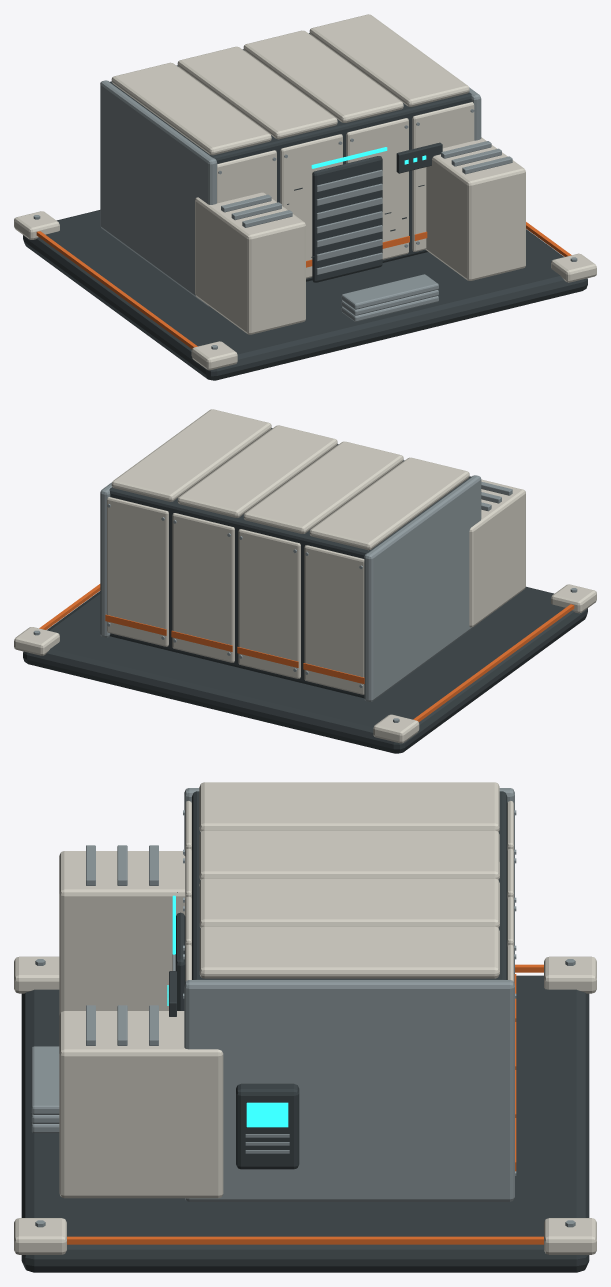
Rendered from SM_ToolFactory_Body.fbx.
3 views of the same model, one above another, from view 1: azimuth 30°, elevation 25°; view 2: azimuth 150°, elevation 25°; view 3: azimuth 270°, elevation 25° (orthographic). The views are drawn at different scales.
Parts seen in each view (by area): view 1: SM_ToolFactory_Body; view 2: SM_ToolFactory_Body; view 3: SM_ToolFactory_Body.
Part boxes in pixels (left/top/right/bottom): SM_ToolFactory_Body: left=14, top=14, right=596, bottom=380; SM_ToolFactory_Body: left=14, top=409, right=596, bottom=753; SM_ToolFactory_Body: left=14, top=782, right=596, bottom=1272.
Size of the model in its own units: 532 by 462 by 231.
